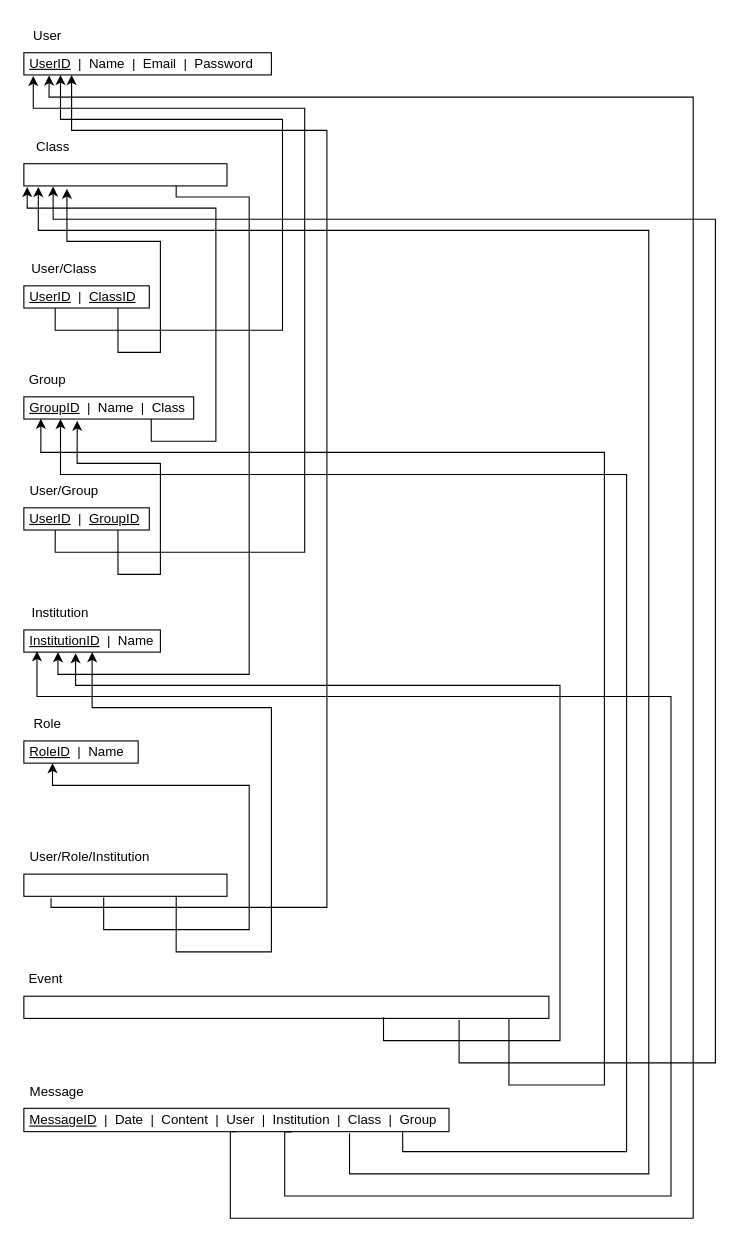
The diagram is 744 pixels wide and 1247 high, and some of its shapes have lost their labels. The box of each missing label's shape, as (x1, y1, x2, y2) in pixels:
ClassID | Name | Institution: (23, 163, 227, 186)
EventID | Name | StartDate | EndDate | Description | Institution | Class | Group: (23, 995, 549, 1018)
UserID | RoleID | InstitutionID: (23, 873, 227, 896)
